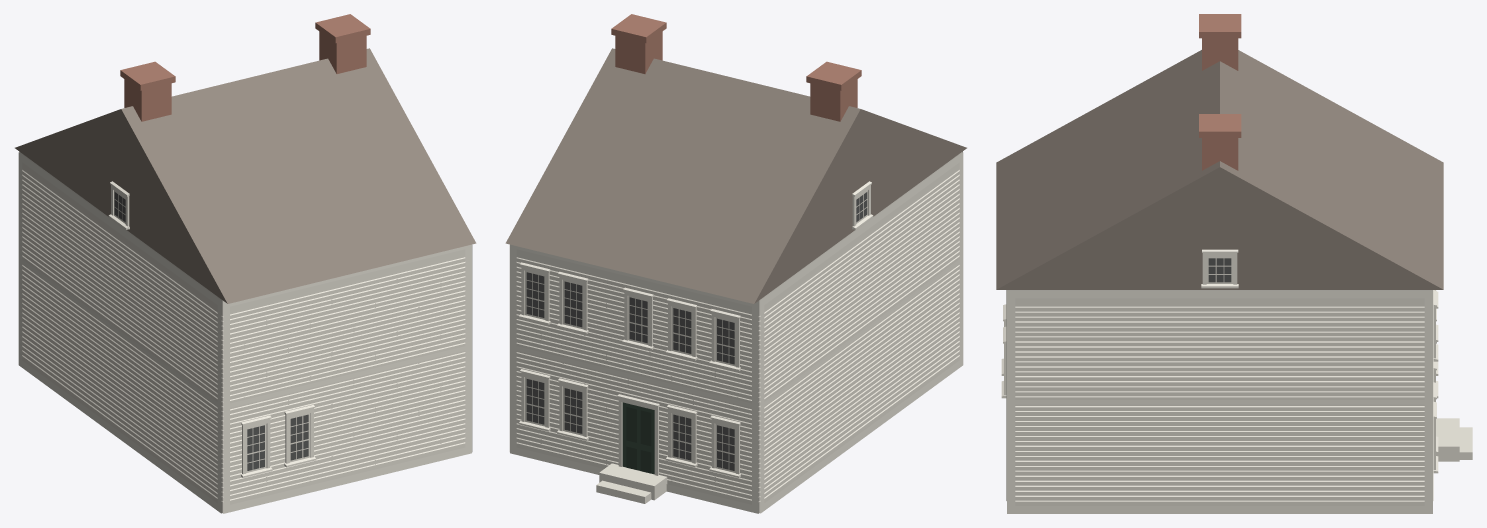
Rendered from recon_1835_blk_washington_market_d7_09__inferred_1835.glb.
3 views of the same model, side by side, from view 1: azimuth 30°, elevation 25°; view 2: azimuth 150°, elevation 25°; view 3: azimuth 270°, elevation 25° (orthographic). The views are drawn at different scales.
Parts seen in each view (by area): view 1: recon_1835_blk_washington_market_d7_09__inferred_1835; view 2: recon_1835_blk_washington_market_d7_09__inferred_1835; view 3: recon_1835_blk_washington_market_d7_09__inferred_1835.
Boxes of the visible parts, x1=… form: recon_1835_blk_washington_market_d7_09__inferred_1835: x1=15, y1=14, x2=476, y2=513; recon_1835_blk_washington_market_d7_09__inferred_1835: x1=505, y1=14, x2=966, y2=513; recon_1835_blk_washington_market_d7_09__inferred_1835: x1=996, y1=14, x2=1472, y2=513.
Size of the model in its own units: 7.18 by 9.62 by 11.02.
